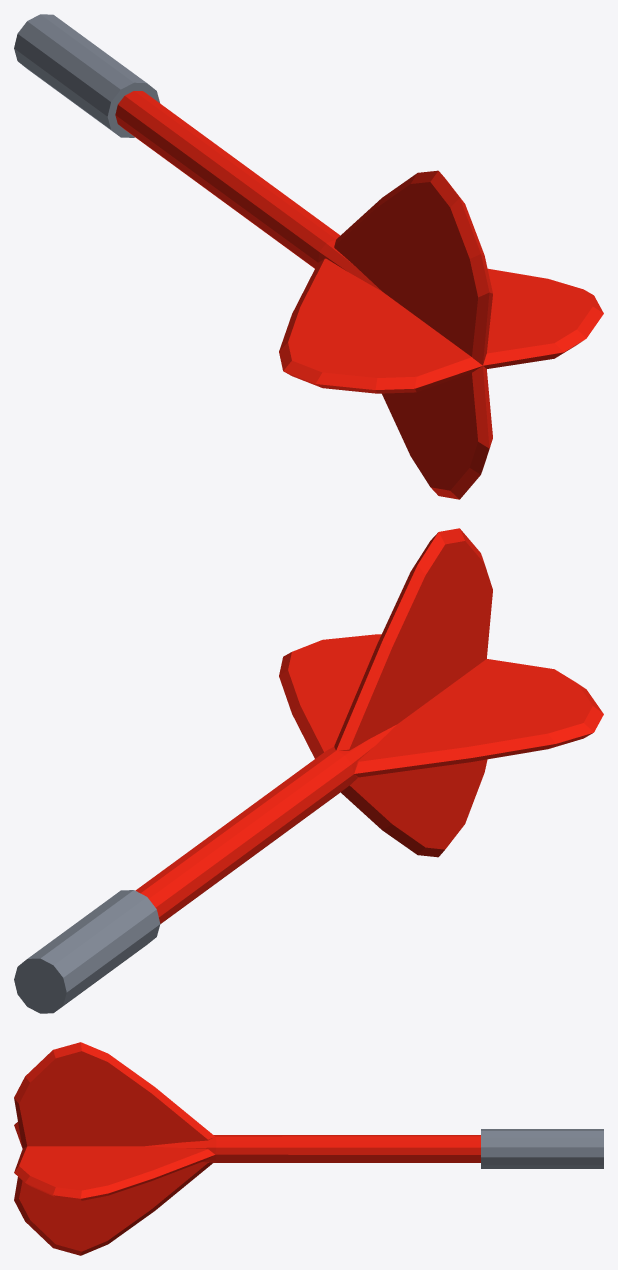
File: 0_CPC_Dart.fbx
3 renders of one model, top to bottom at view 1: azimuth 30°, elevation 25°; view 2: azimuth 150°, elevation 25°; view 3: azimuth 270°, elevation 25°, orthographic. The views are drawn at different scales.
Visible parts, largest first — view 1: Circle.015; view 2: Circle.015; view 3: Circle.015.
Part boxes in pixels (bbox=[...]): Circle.015: bbox=[14, 14, 603, 499]; Circle.015: bbox=[14, 528, 603, 1013]; Circle.015: bbox=[14, 1042, 603, 1255].
Size of the model in its own units: 20.82 by 52.08 by 20.82.
